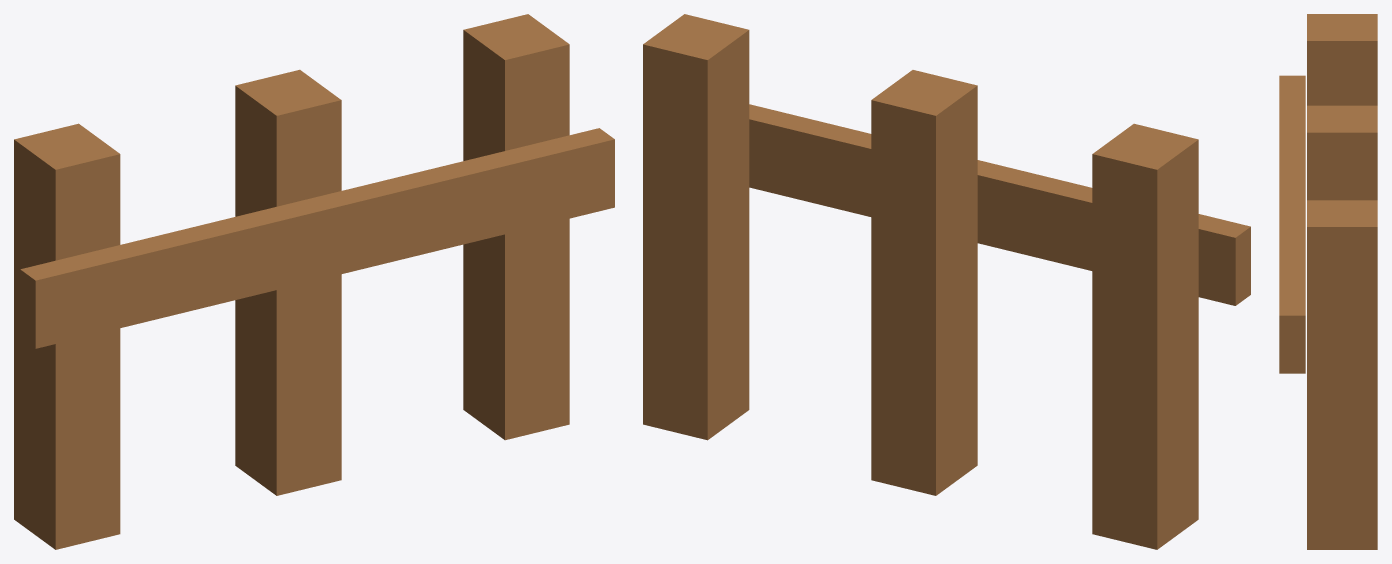
Rendered from Fence_Geo.fbx.
The picture shows the model from 3 angles, left to right: view 1: azimuth 30°, elevation 25°; view 2: azimuth 150°, elevation 25°; view 3: azimuth 270°, elevation 25°; orthographic projection. The views are drawn at different scales.
Visible parts, largest first — view 1: Fence_Geo; view 2: Fence_Geo; view 3: Fence_Geo.
Boxes of the visible parts, left/top/right/bottom form: Fence_Geo: left=14, top=14, right=614, bottom=549; Fence_Geo: left=643, top=14, right=1250, bottom=549; Fence_Geo: left=1279, top=14, right=1377, bottom=549.
Bounding box in the file's own units: 47.32 × 29.67 × 8.17.
